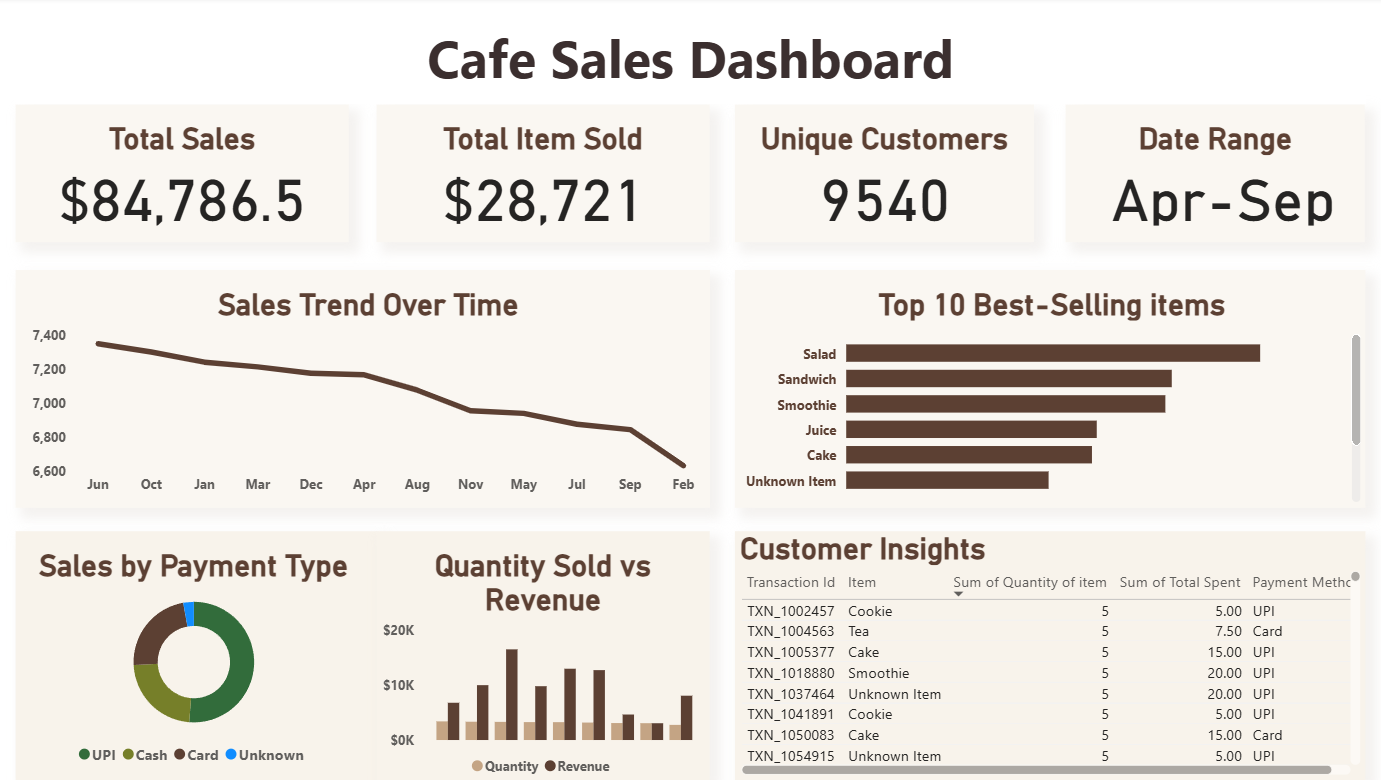

Layout of this report page (visuals, bound fields, positions):
{"tool":"powerbi","page":{"name":"Page 1","canvas":[1280,720],"ordinal":0},"visuals":[{"type":"card","title":"Total Item Sold","fields":{"Values":["transformed_cafe_sales.Total Quantity"]},"box":[353.8,98.5,306.2,126.2],"z":0},{"type":"card","title":"Date Range","fields":{"Values":["transformed_cafe_sales.Date Range"]},"box":[987.7,98.5,275.4,126.2],"z":1000},{"type":"card","title":"Unique Customers","fields":{"Values":["transformed_cafe_sales.Unique Customers"]},"box":[683.1,98.5,275.4,126.2],"z":2000},{"type":"card","title":"Total Sales","fields":{"Values":["transformed_cafe_sales.Total Sales"]},"box":[21.5,98.5,306.2,126.2],"z":3000},{"type":"textbox","box":[21.5,0,1241.5,98.5],"z":4000},{"type":"lineChart","title":"Sales Trend Over Time","fields":{"Category":["transformed_cafe_sales.Date"],"Y":["Sum(transformed_cafe_sales.Total Spent)"]},"box":[21.5,250.8,638.5,218.5],"z":4001},{"type":"clusteredBarChart","title":"Top 10 Best-Selling items","fields":{"Y":["Sum(transformed_cafe_sales.Total Spent)"],"Category":["transformed_cafe_sales.Item"]},"box":[683.1,250.8,580,218.5],"z":4002},{"type":"donutChart","title":"Sales by Payment Type","fields":{"Category":["transformed_cafe_sales.Payment Method"],"Y":["Sum(transformed_cafe_sales.Total Spent)"]},"box":[21.5,490.8,332.3,229.2],"z":4003},{"type":"clusteredColumnChart","title":"Quantity Sold vs Revenue","fields":{"Category":["transformed_cafe_sales.Item"],"Y":["transformed_cafe_sales.Total Quantity","transformed_cafe_sales.Revenue"]},"box":[353.8,490.8,306.2,229.2],"z":4004},{"type":"tableEx","title":"Customer Insights","fields":{"Values":["transformed_cafe_sales.Transaction Id","transformed_cafe_sales.Item","Sum(transformed_cafe_sales.Quantity of item)","Sum(transformed_cafe_sales.Total Spent)","transformed_cafe_sales.Payment Method"]},"box":[683.1,490.8,580,229.2],"z":4005}]}

Visuals, with their boxes in screenshot pixels (x1, y1, x2, y2), scaled from the page's 1280x720 canvas onto the 1381x780 screenshot:
"Total Item Sold" card: (x1=382, y1=107, x2=712, y2=243)
"Date Range" card: (x1=1066, y1=107, x2=1363, y2=243)
"Unique Customers" card: (x1=737, y1=107, x2=1034, y2=243)
"Total Sales" card: (x1=23, y1=107, x2=354, y2=243)
textbox: (x1=23, y1=0, x2=1363, y2=107)
"Sales Trend Over Time" lineChart: (x1=23, y1=272, x2=712, y2=508)
"Top 10 Best-Selling items" clusteredBarChart: (x1=737, y1=272, x2=1363, y2=508)
"Sales by Payment Type" donutChart: (x1=23, y1=532, x2=382, y2=779)
"Quantity Sold vs Revenue" clusteredColumnChart: (x1=382, y1=532, x2=712, y2=779)
"Customer Insights" tableEx: (x1=737, y1=532, x2=1363, y2=779)
